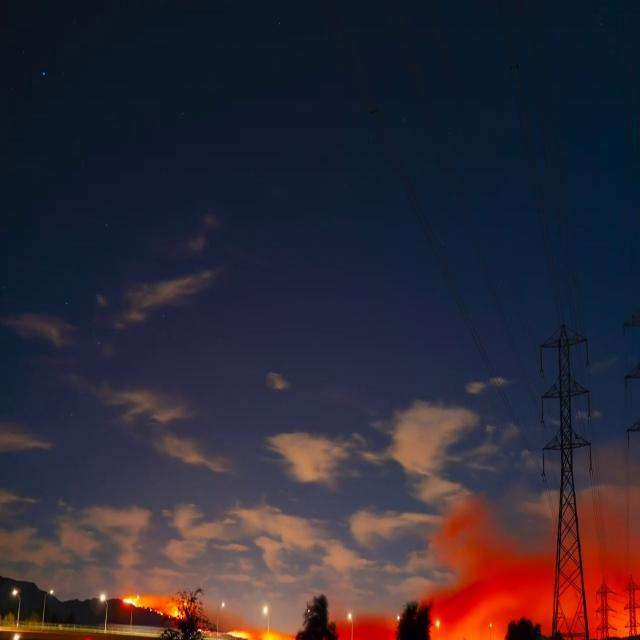Fire: (124, 594, 184, 618), (227, 627, 250, 640)
Smoke: (334, 479, 638, 638)
